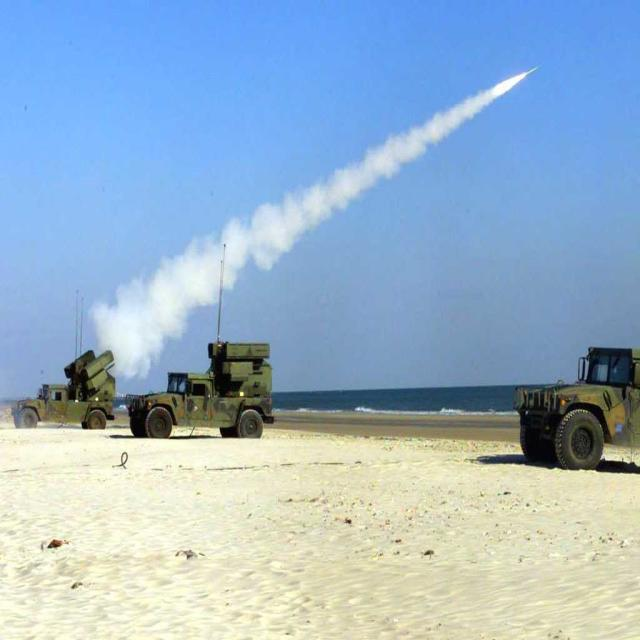missile: (522, 60, 548, 81)
